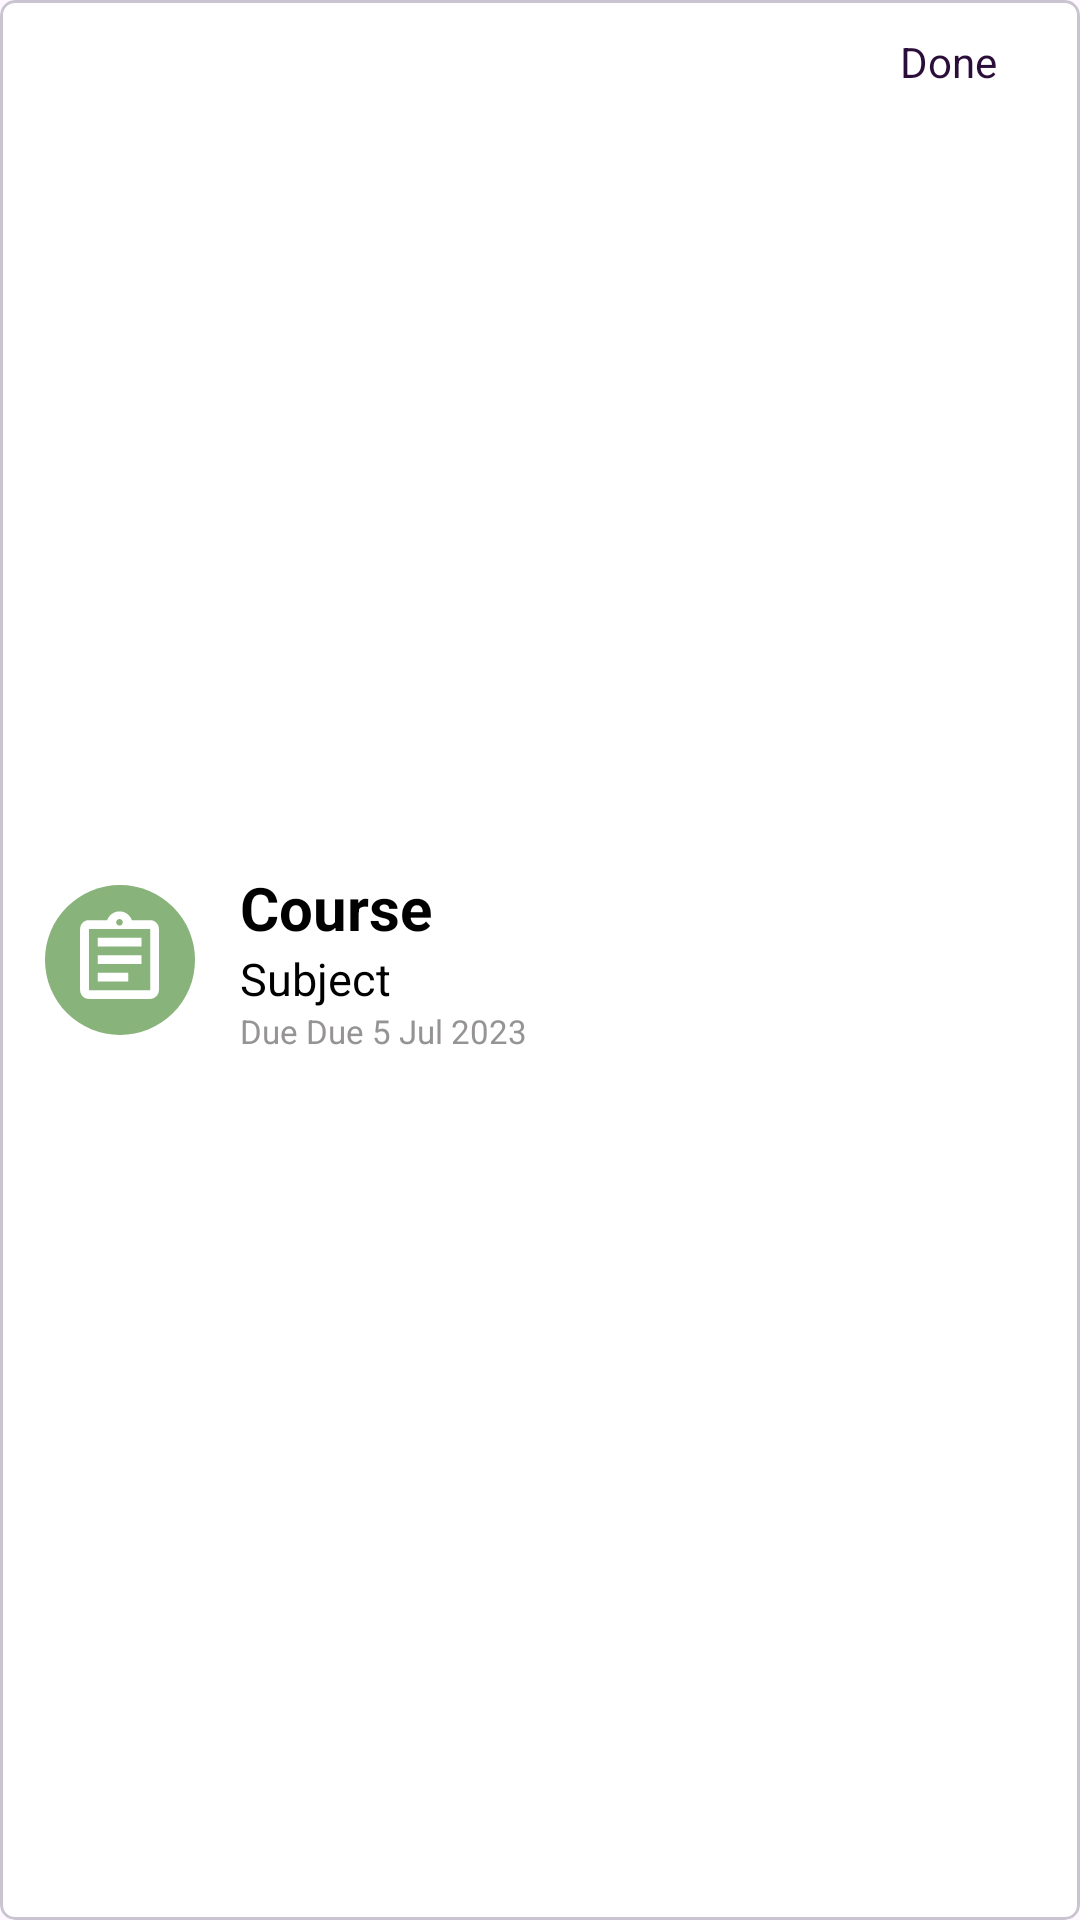

Screen size 1080w x 1920h. Icon name, then its center in pixels as (x=x, y=y):
assignment: (x=119, y=955)
